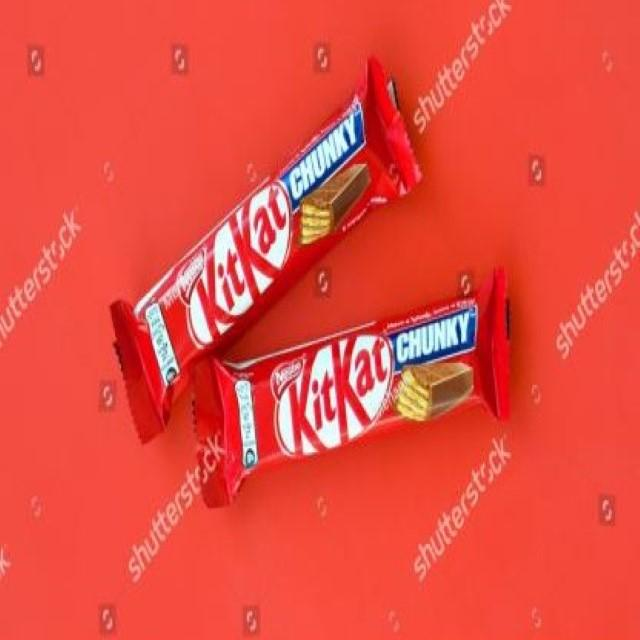kitkat_chocolate: (230, 290, 555, 507), (150, 119, 368, 374)
